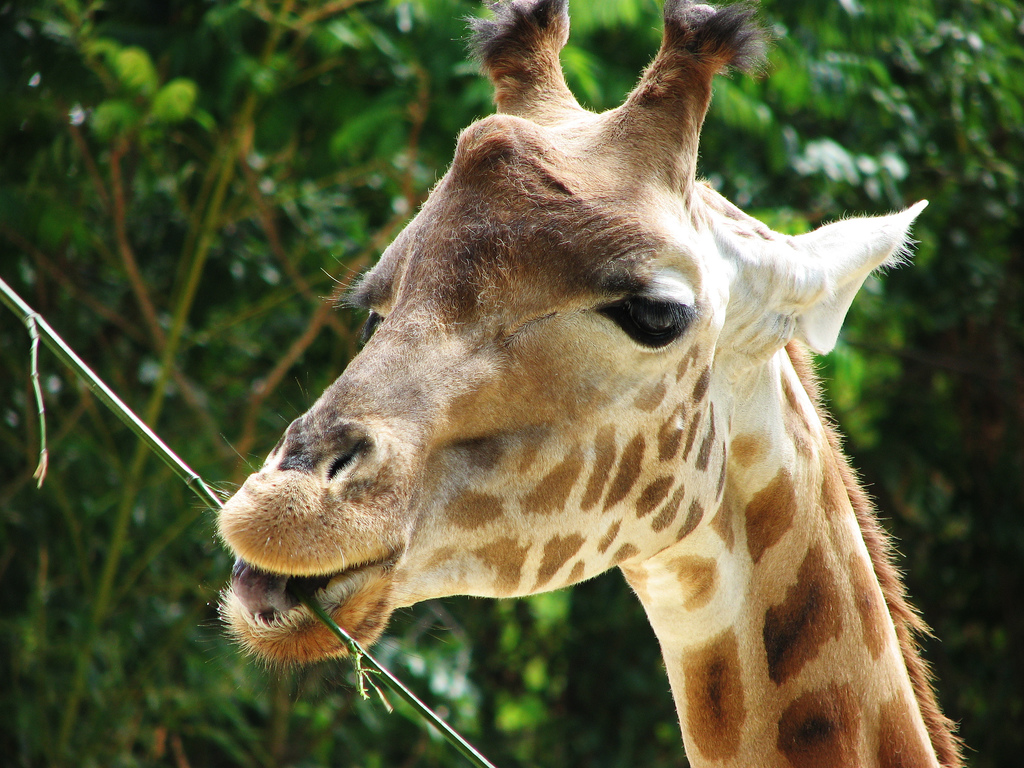giraffe: (177, 1, 961, 730)
